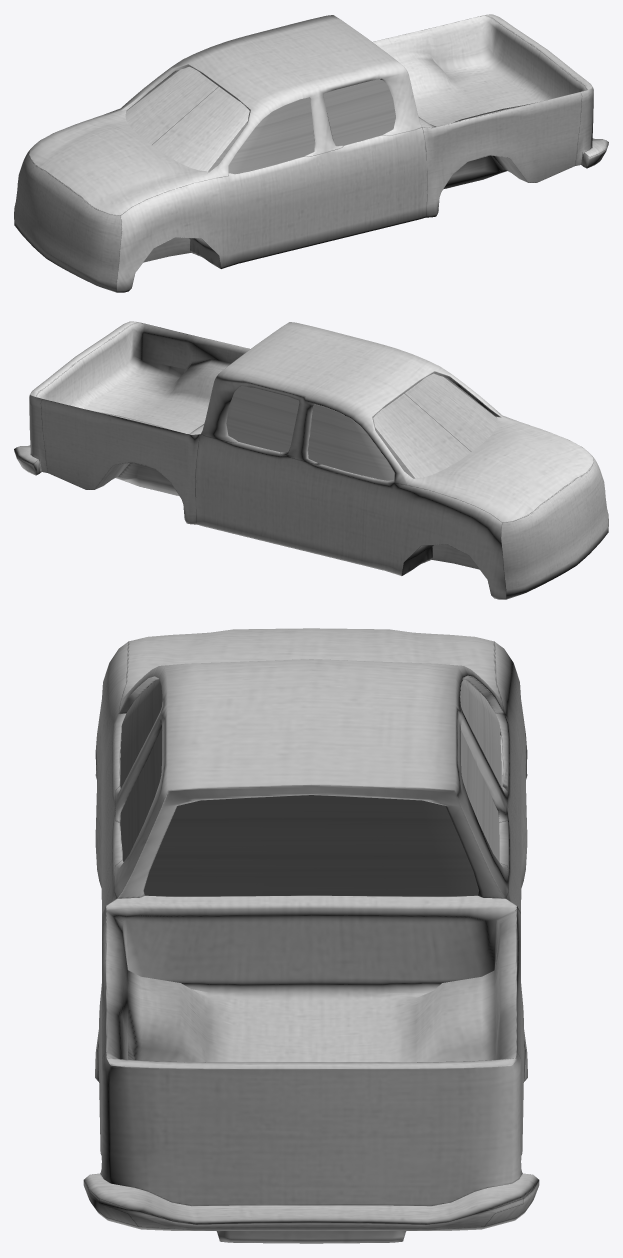
Rendered from 4X4 hilyx DALAA.FBX.
The picture shows the model from 3 angles, top to bottom: view 1: azimuth 30°, elevation 25°; view 2: azimuth 150°, elevation 25°; view 3: azimuth 270°, elevation 25°; orthographic projection. The views are drawn at different scales.
Visible parts, largest first — view 1: Object014; view 2: Object014; view 3: Object014.
Boxes of the visible parts, x1,y1,x2,y2 form: Object014: [14, 14, 608, 292]; Object014: [14, 321, 608, 599]; Object014: [83, 628, 539, 1243].
Bounding box in the file's own units: 62.93 × 16.87 × 24.
1 material, 1 textured.
